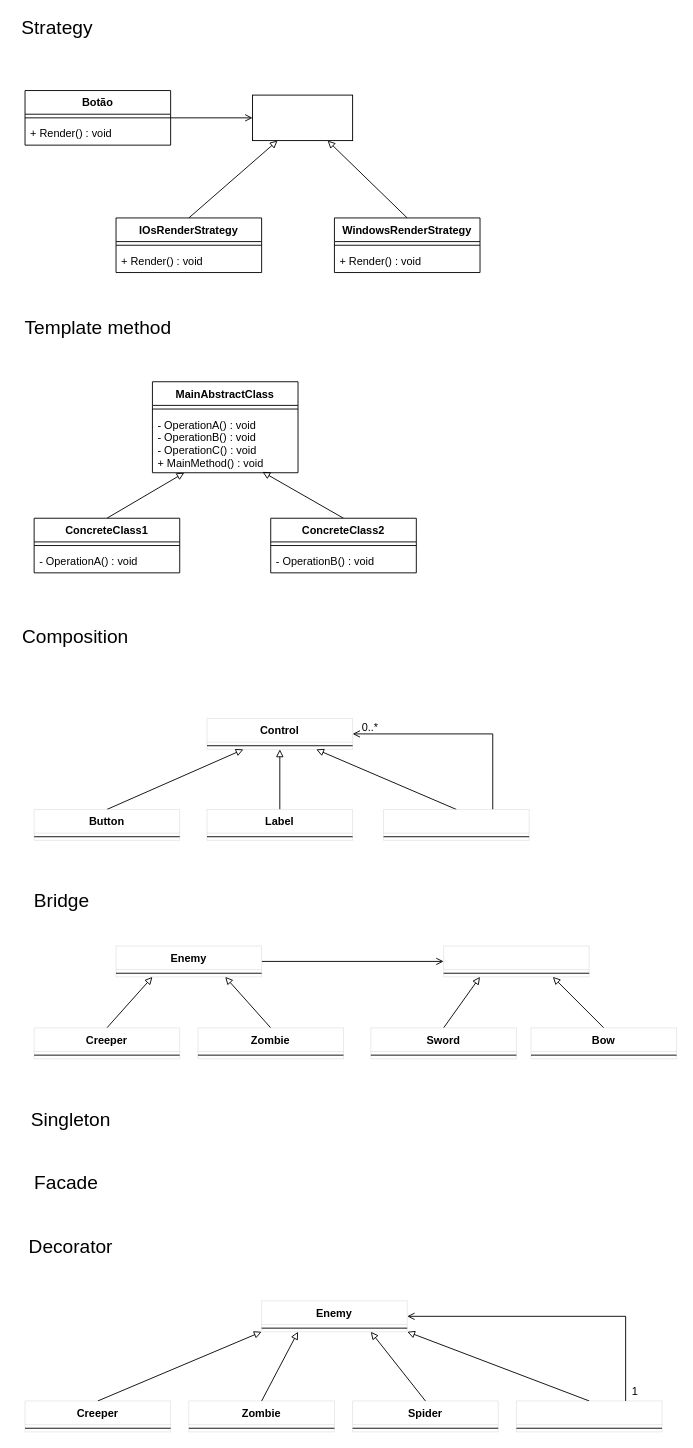
The diagram is 693 pixels wide and 1448 high, and some of its shapes have lost their labels. The shapes that lost their labels are listed below. From the top down, each one's centre as x and y in pixels, then its label:
point (302, 117): «interface» RenderStrategy
point (456, 824): Panel
point (516, 960): Weapon
point (589, 1415): EnemyInSpider
